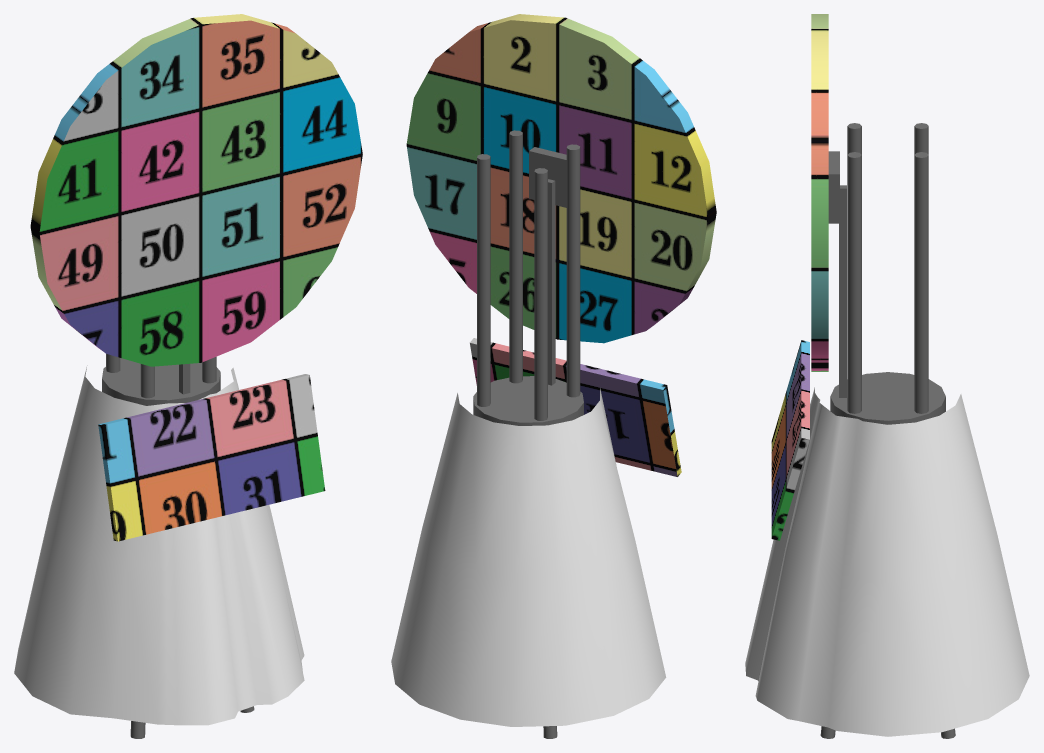
File: flst.glb
3 renders of one model, left to right at view 1: azimuth 30°, elevation 25°; view 2: azimuth 150°, elevation 25°; view 3: azimuth 270°, elevation 25°, orthographic. The views are drawn at different scales.
Parts seen in each view (by area): view 1: パネル, 布, プレート, 土台, 脚1; view 2: 布, パネル, 脚1, プレート, 土台, obj1; view 3: 布, 脚1, パネル, プレート, 土台, obj1.
Part boxes in pixels (<box>): パネル: <box>30,14,362,366</box>; 布: <box>14,365,304,725</box>; プレート: <box>98,374,325,541</box>; 土台: <box>102,358,220,405</box>; 脚1: <box>106,354,216,398</box>; 布: <box>391,388,666,726</box>; パネル: <box>406,14,716,343</box>; 脚1: <box>477,130,580,420</box>; プレート: <box>470,338,681,476</box>; 土台: <box>473,376,583,425</box>; obj1: <box>529,147,566,385</box>; 布: <box>745,387,1029,736</box>; 脚1: <box>847,123,928,413</box>; パネル: <box>811,14,828,371</box>; プレート: <box>771,340,809,540</box>; 土台: <box>830,372,945,424</box>; obj1: <box>828,151,846,397</box>.
Bounding box in the file's own units: 0.0624 × 0.1302 × 0.0492.
Materials: 3 (1 with a texture image).
